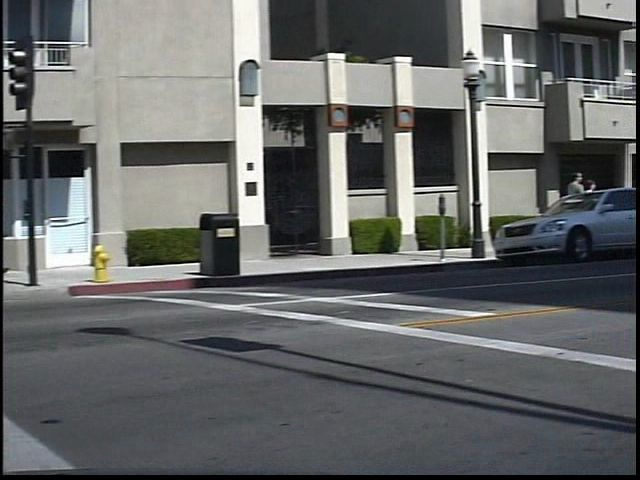person: (572, 167, 596, 243), (592, 176, 612, 236)
